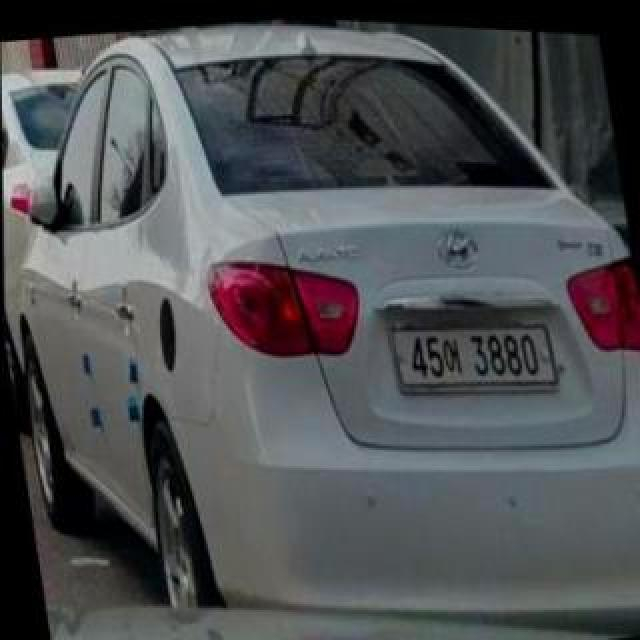car: (13, 15, 640, 628)
illegal_plate: (397, 322, 552, 395)
